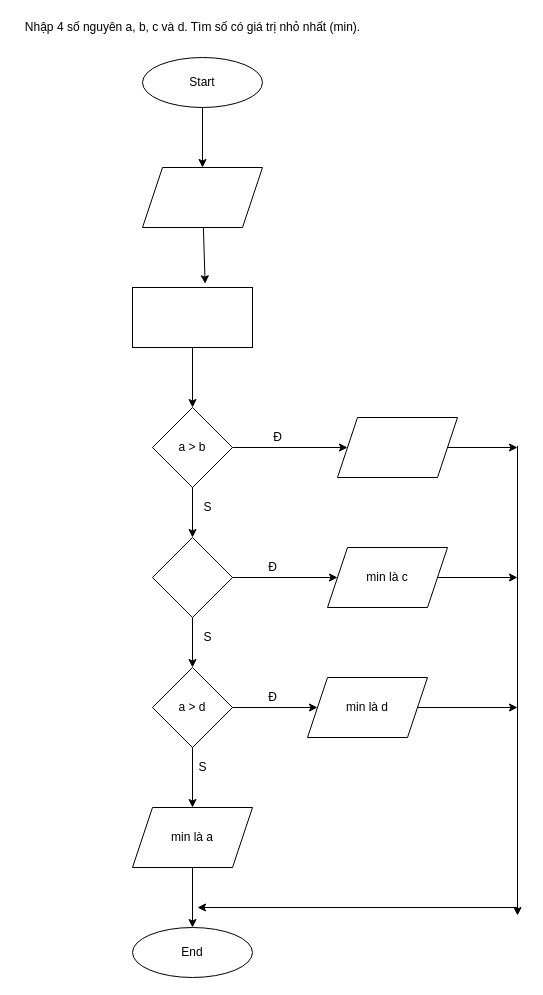
The diagram is 543 pixels wide and 995 high, and some of its shapes have lost their labels. The centre of each missing label's shape, as x and y in pixels:
a > c: point (192, 577)
Gọi a là min: point (192, 317)
min là b: point (397, 447)
Nhập a, b, c, d: point (202, 197)
